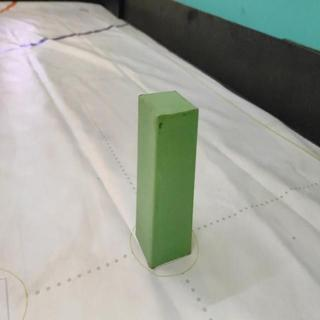greenbox: (136, 87, 199, 271)
